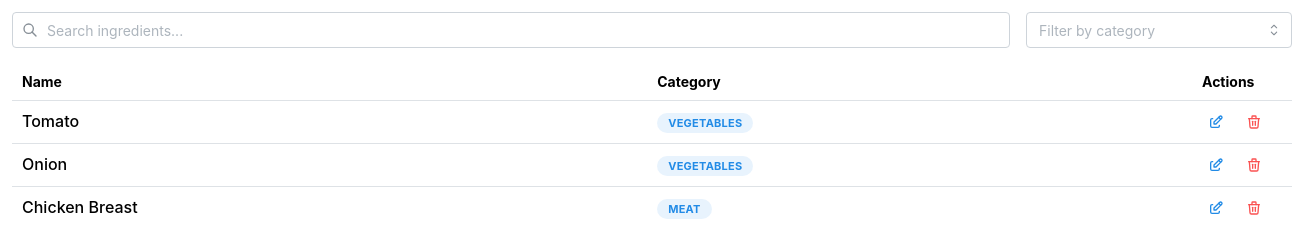
Test case: IngredientList › Search and Filter › should clear filters when search is cleared
The width and height of the screenshot is (1304, 236).
Type "chicken" into the field with placeholder "Search ingredients..." at (511, 30), box [12,12,1010,48]
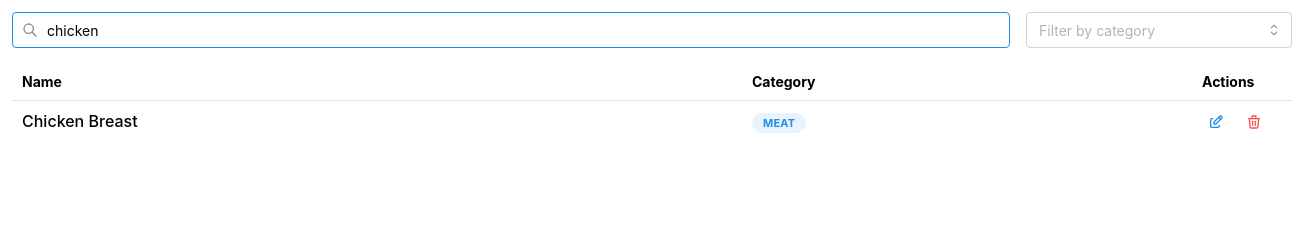
Expected: the text "Chicken Breast" is shown, [22,111,138,131]
Clear the field with placeholder "Search ingredients..." at (511, 30), box [12,12,1010,48]
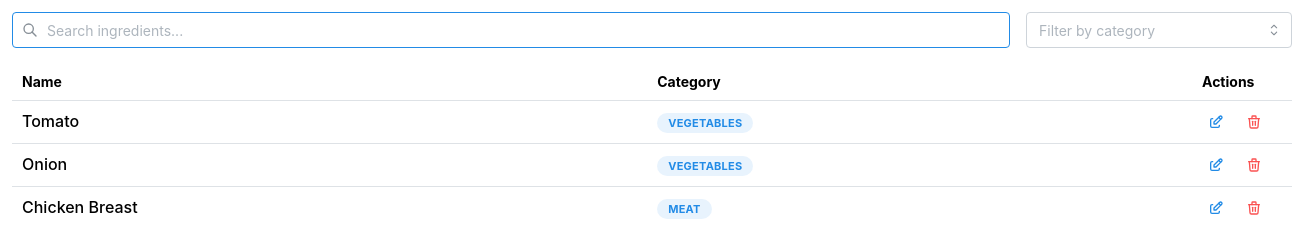
Expected: the text "Chicken Breast" is shown, [22,197,138,217]
Expected: the text "Tomato" is shown, [22,111,79,131]
Expected: the text "Onion" is shown, [22,154,67,174]
